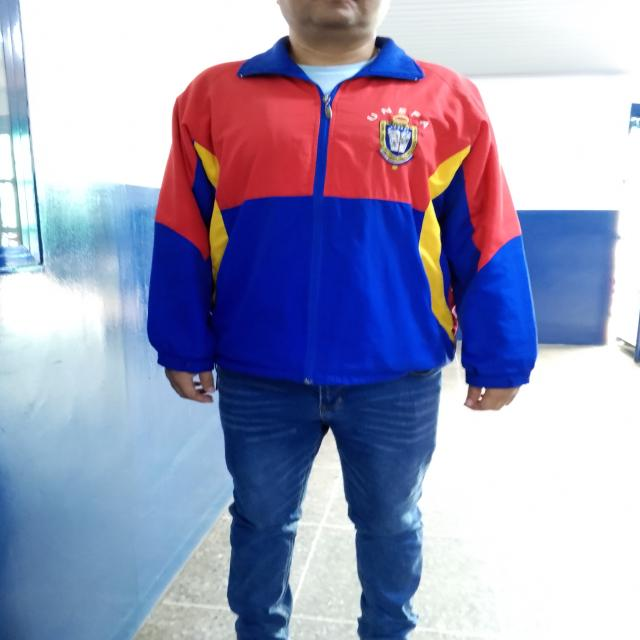chaqueta_unefa: (144, 34, 538, 389)
